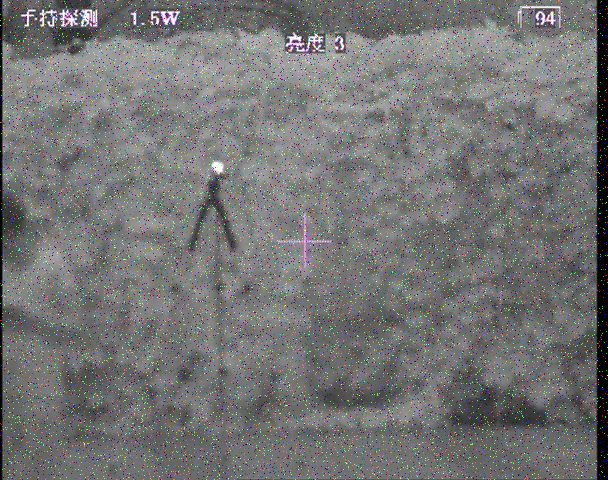my: (209, 159, 224, 174)
